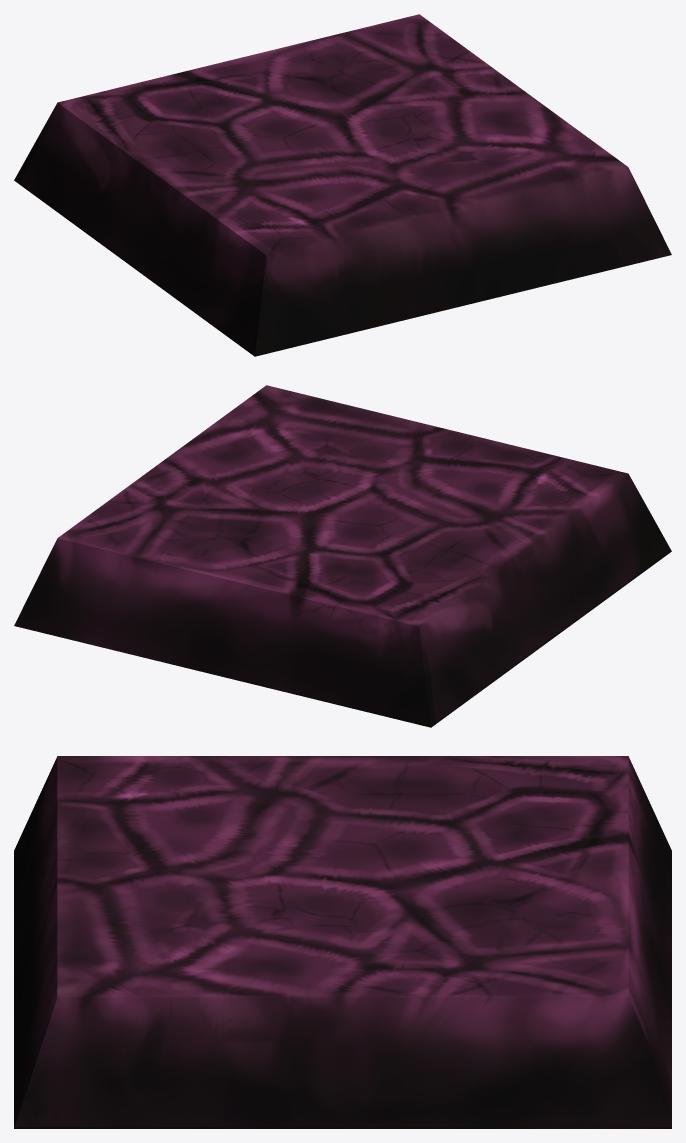
The model's file is Tiles.fbx.
3 views of the same model, one above another, from view 1: azimuth 30°, elevation 25°; view 2: azimuth 150°, elevation 25°; view 3: azimuth 270°, elevation 25° (orthographic). The views are drawn at different scales.
Visible parts, largest first — view 1: Tiled_Map_Base.001; view 2: Tiled_Map_Base.001; view 3: Tiled_Map_Base.001.
Boxes of the visible parts, x1,y1,x2,y2 form: Tiled_Map_Base.001: (14, 14, 671, 356); Tiled_Map_Base.001: (14, 385, 671, 727); Tiled_Map_Base.001: (14, 756, 671, 1128).
Size of the model in its own units: 200 by 37.96 by 200.
